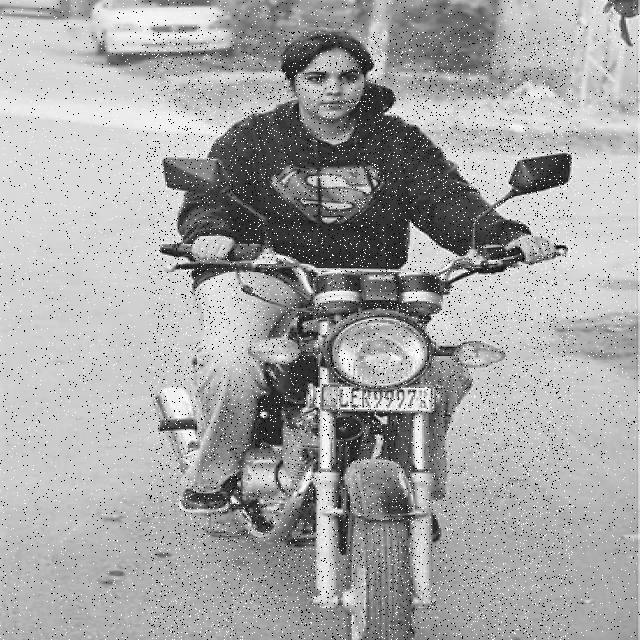Motorbike: (149, 31, 573, 640)
